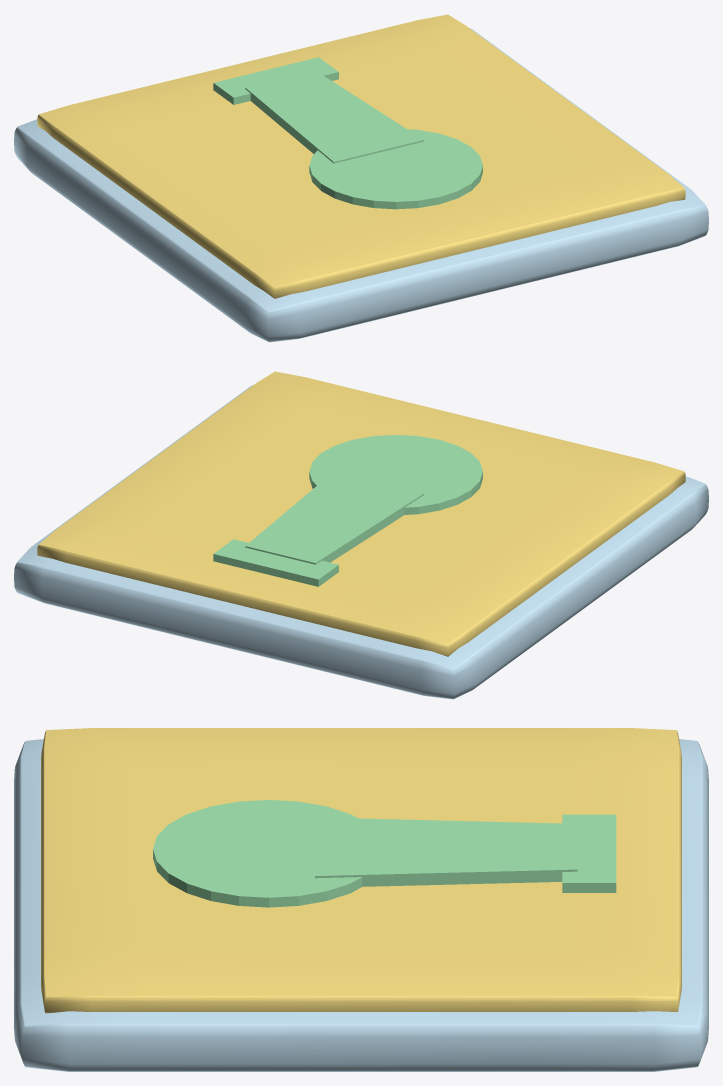
Rendered from DiceDashTileCannon.glb.
3 views of the same model, one above another, from view 1: azimuth 30°, elevation 25°; view 2: azimuth 150°, elevation 25°; view 3: azimuth 270°, elevation 25° (orthographic). The views are drawn at different scales.
Visible parts, largest first — view 1: Top, Base, Icon; view 2: Top, Base, Icon; view 3: Top, Base, Icon.
Boxes of the visible parts, x1,y1,x2,y2 form: Top: (37,14,685,298); Base: (14,28,708,342); Icon: (213,57,482,209); Top: (37,371,685,656); Base: (14,385,708,699); Icon: (213,435,482,586); Top: (41,728,681,1013); Base: (14,739,708,1071); Icon: (153,800,616,907).
Size of the model in its own units: 9 by 1.27 by 9.
